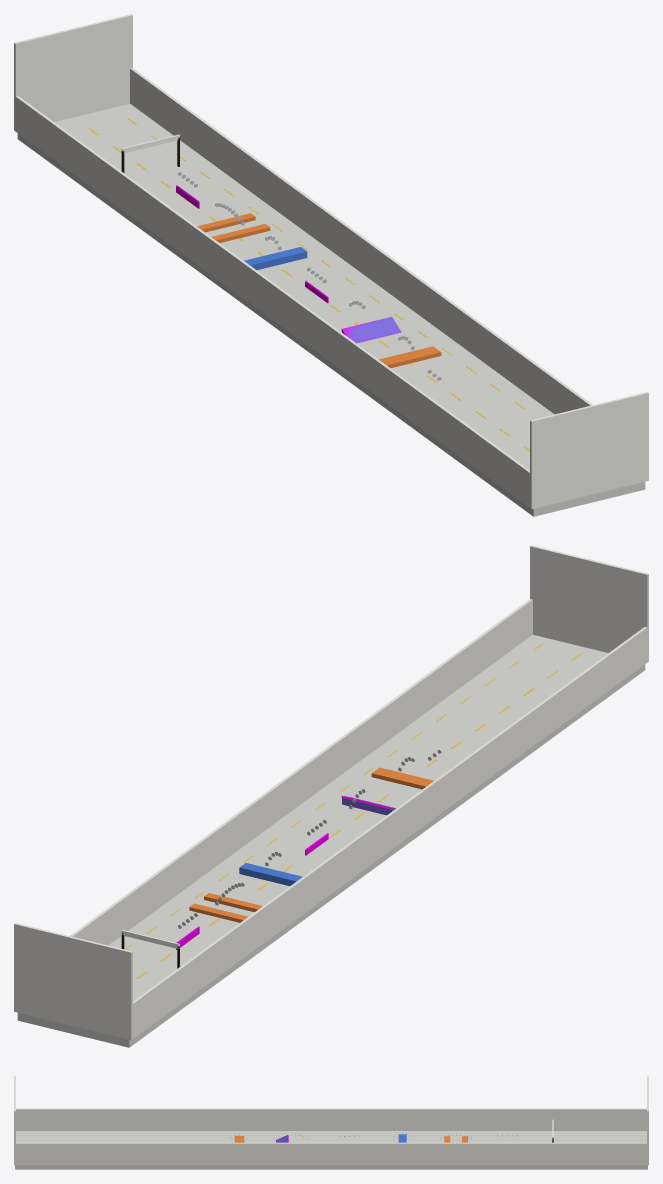
File: room.glb
3 views of the same model, one above another, from view 1: azimuth 30°, elevation 25°; view 2: azimuth 150°, elevation 25°; view 3: azimuth 270°, elevation 25° (orthographic). The views are drawn at different scales.
Visible parts, largest first — view 1: Ground, Side wall -1, Side wall 1, Back wall, Far wall, Kicker, Barrier; view 2: Ground, Side wall -1, Side wall 1, Far wall, Back wall, Barrier; view 3: Side wall 1, Side wall -1, Ground, Back wall, Far wall.
Boxes of the visible parts, x1,y1,x2,y2 form: Ground: (17, 104, 645, 516); Side wall -1: (14, 96, 529, 507); Side wall 1: (130, 68, 592, 414); Back wall: (530, 392, 648, 509); Far wall: (14, 14, 132, 131); Kicker: (342, 317, 401, 343); Barrier: (244, 247, 307, 269); Ground: (17, 635, 645, 1047); Side wall -1: (132, 627, 648, 1039); Side wall 1: (70, 599, 532, 945); Far wall: (14, 923, 132, 1040); Back wall: (530, 545, 648, 661); Barrier: (239, 863, 302, 885); Side wall 1: (15, 1142, 647, 1165); Side wall -1: (16, 1108, 646, 1130); Ground: (15, 1131, 647, 1169); Back wall: (14, 1076, 15, 1165); Far wall: (647, 1076, 648, 1165).
Size of the model in its own units: 4.2 by 3.3 by 32.1.
